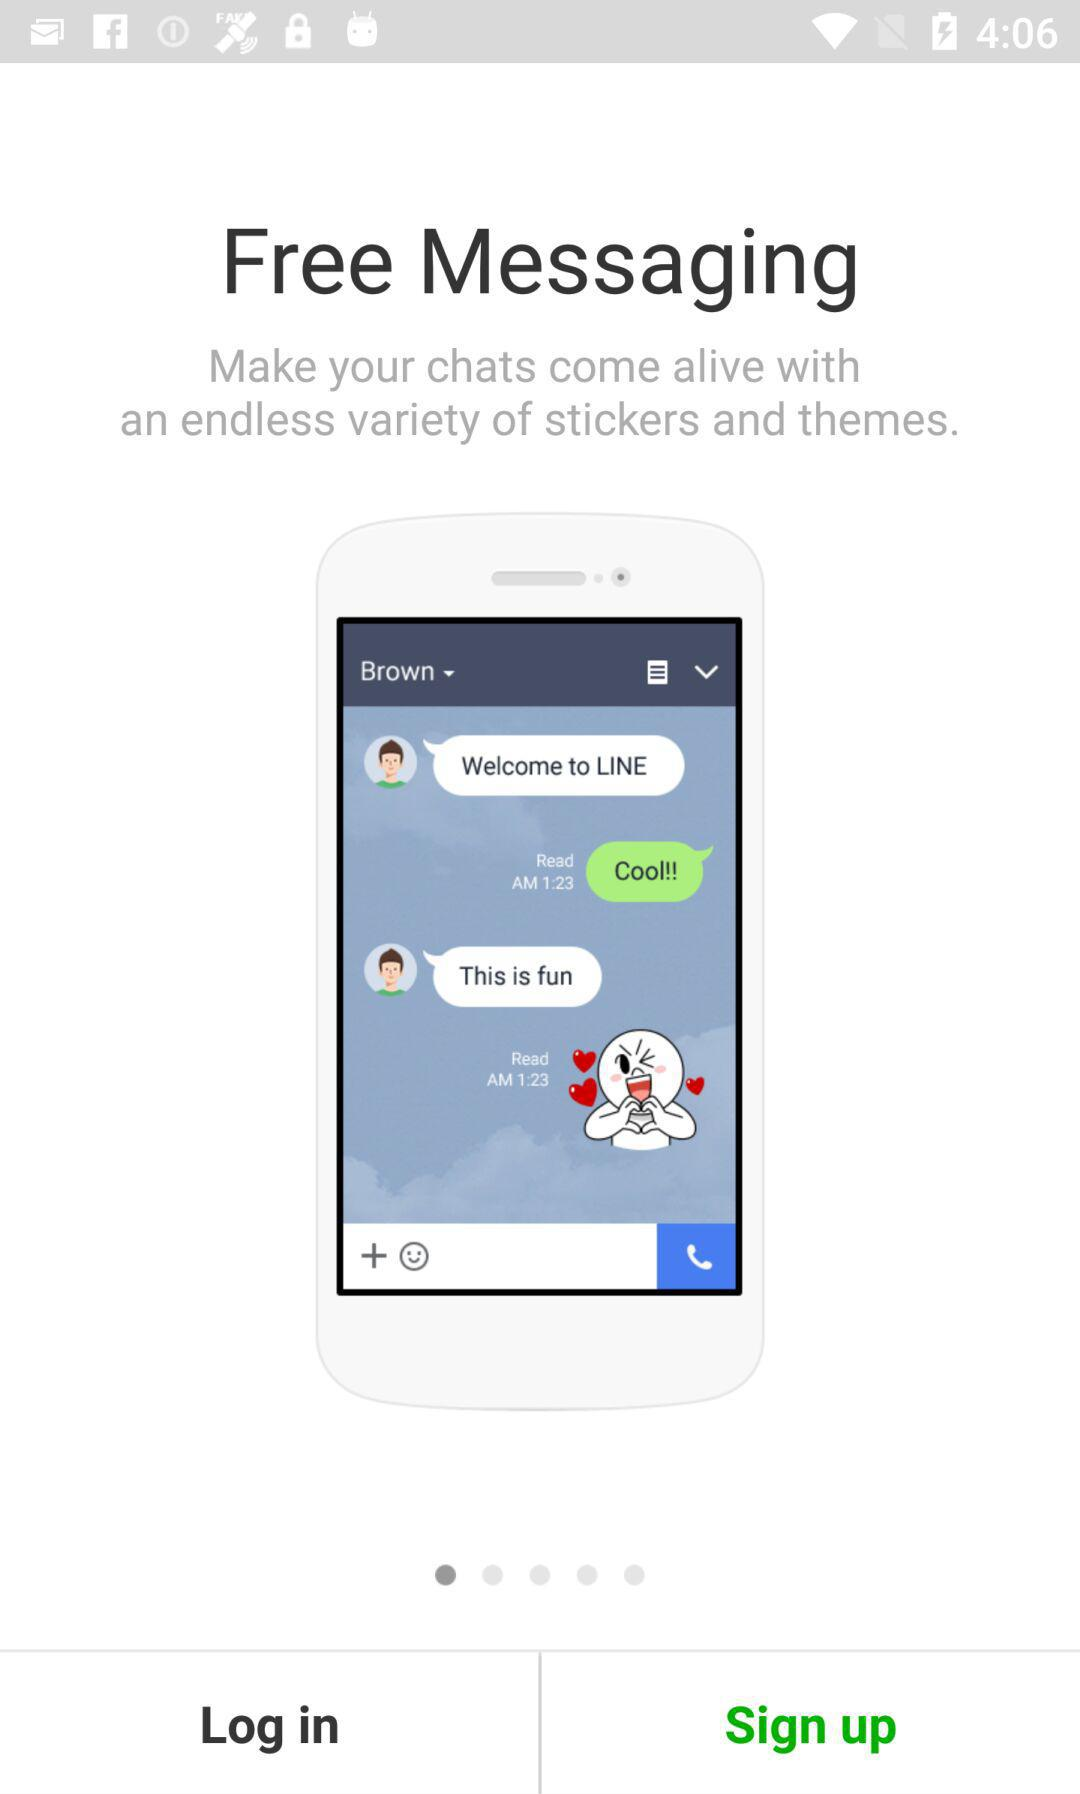Image: (315, 511, 766, 1411)
PageIndicator: (434, 1563, 647, 1586)
Text: (120, 349, 958, 447), (225, 227, 856, 314)
TextButton: (1, 1650, 541, 1794), (541, 1650, 1080, 1794)
UpperTaskBar: (1, 1, 1080, 64)
